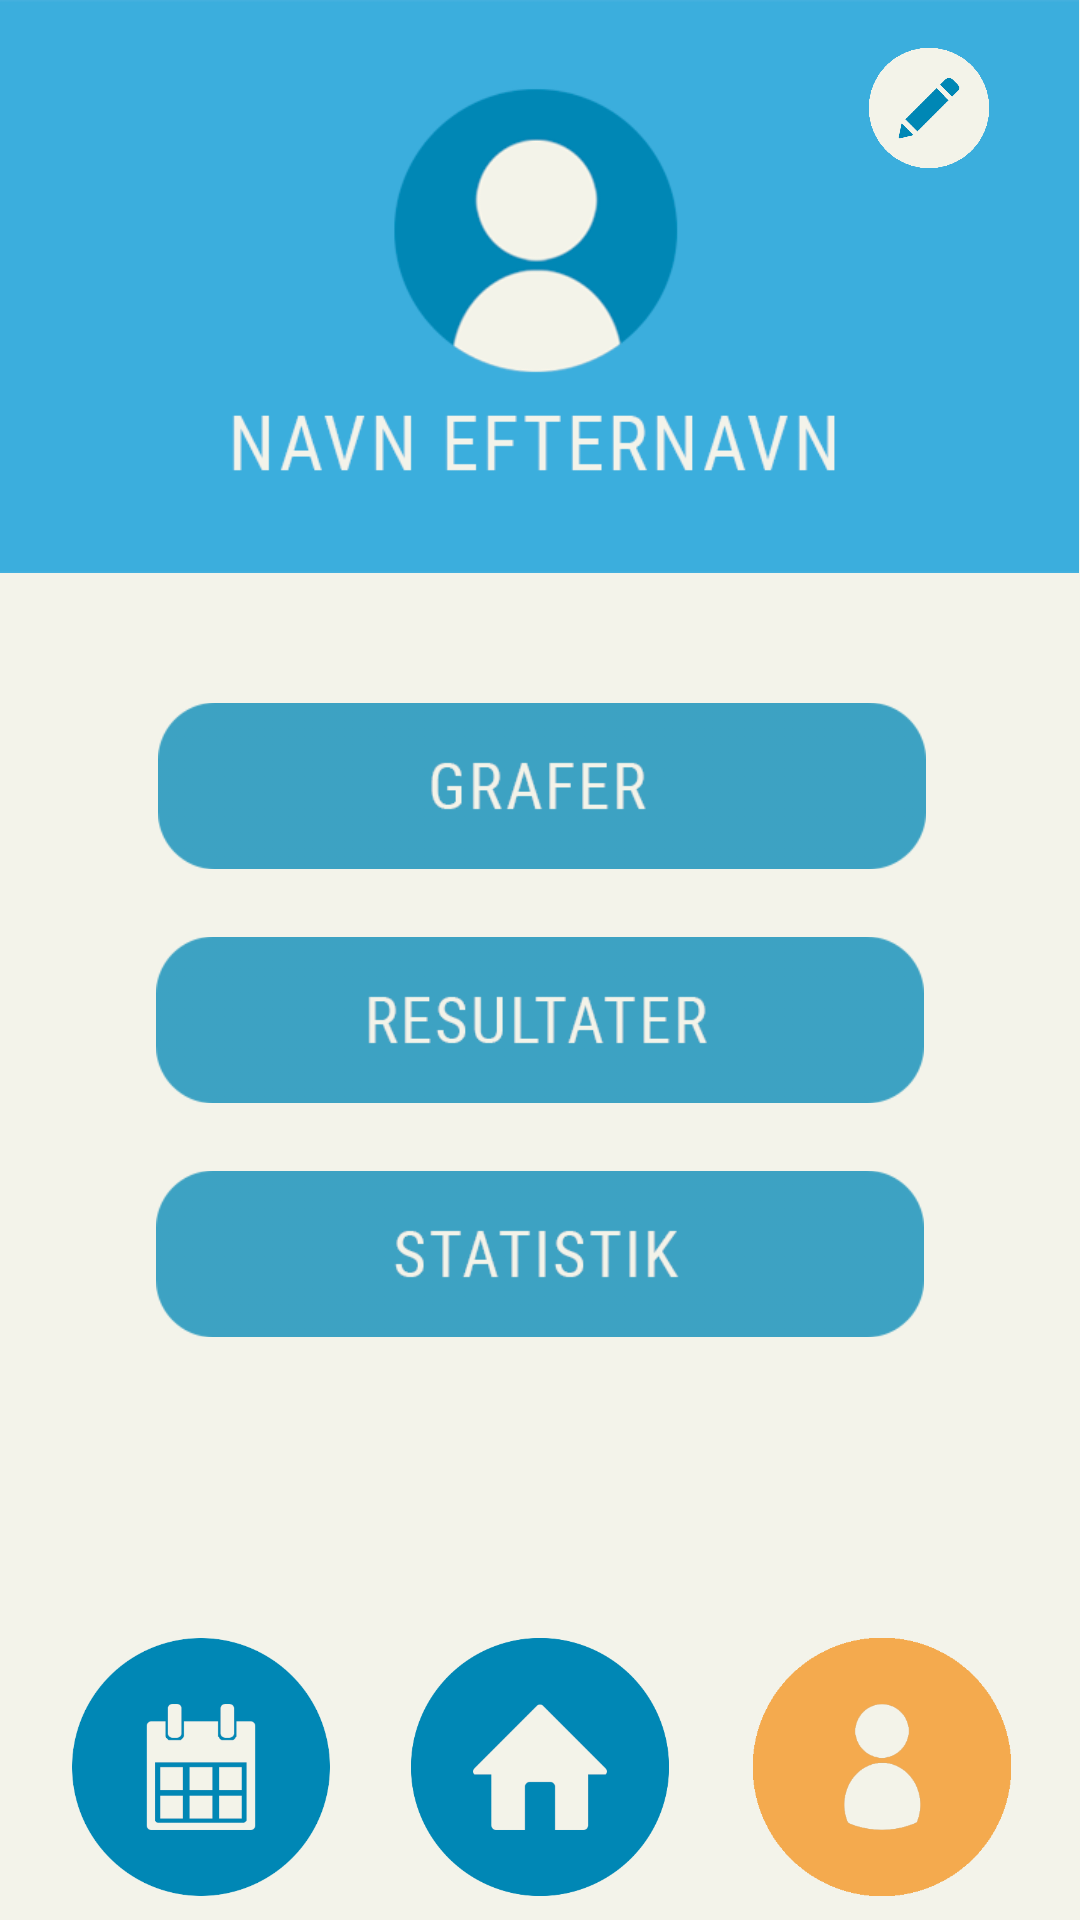

Where icons sit on this 1080*1920 app screen, as (x1,y1,x2,y2):
calendar unclicked: (72,1638,330,1896)
edit: (869,48,989,168)
homepage unclicked: (411,1638,669,1896)
profile clicked: (753,1638,1011,1896)
